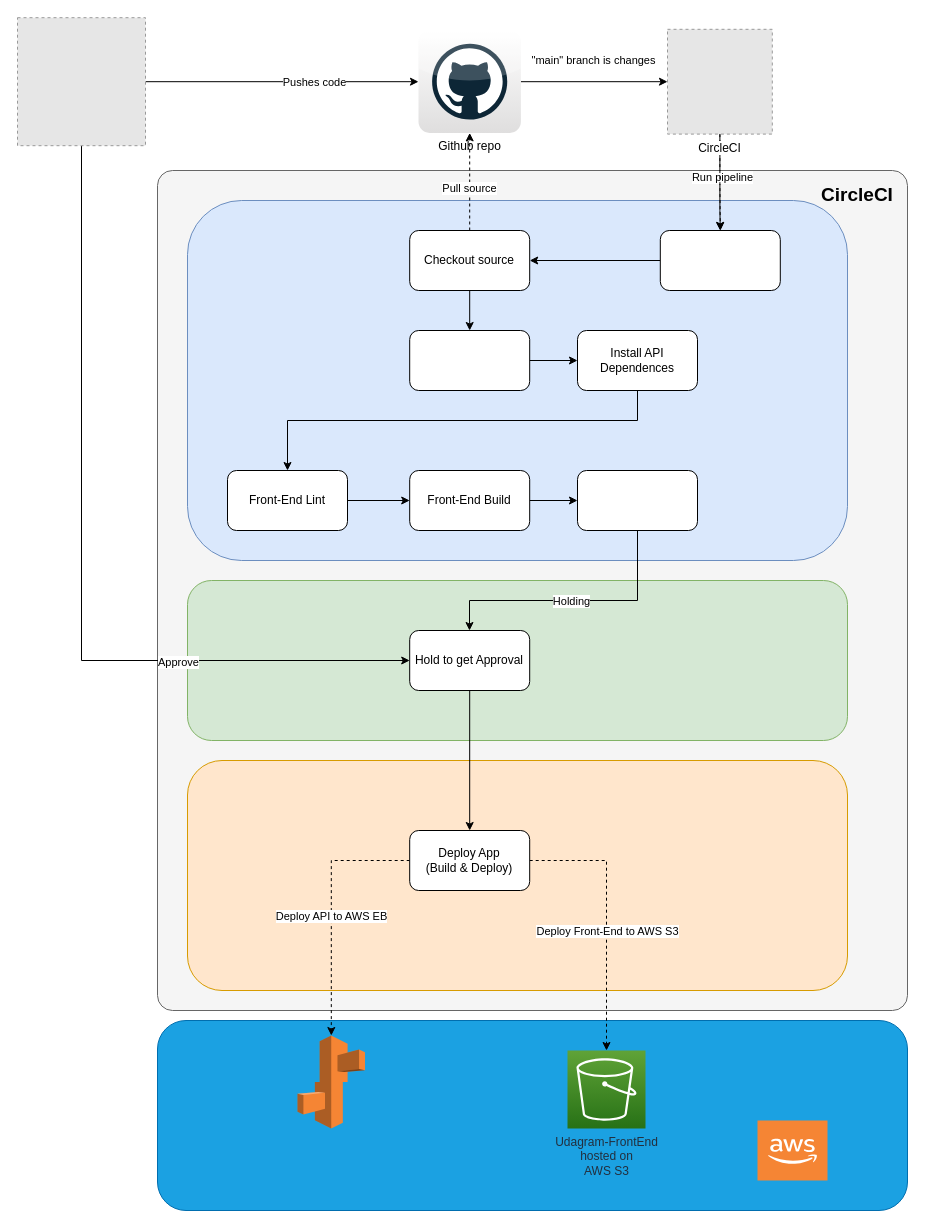
The diagram is 925 pixels wide and 1228 high, and some of its shapes have lost their labels. Grey dashed boxes stand in for pictures. Here are the shapes that lost their labels. From the top down, the centre of each, then its label:
At (719,260): "Node install".
At (469,360): "Install Front-End Dependences".
At (637,500): "API Build".
At (330,1081): "Udagram-API on AWS Elastic Beanstalk".
